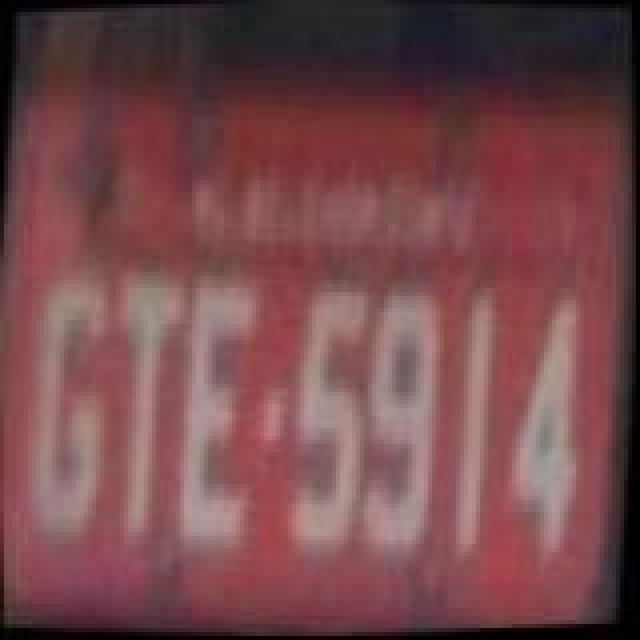1: (438, 286, 506, 554)
4: (492, 292, 600, 568)
5: (274, 282, 382, 558)
9: (344, 286, 452, 566)
E: (166, 270, 274, 558)
G: (14, 266, 126, 542)
T: (94, 272, 194, 552)
